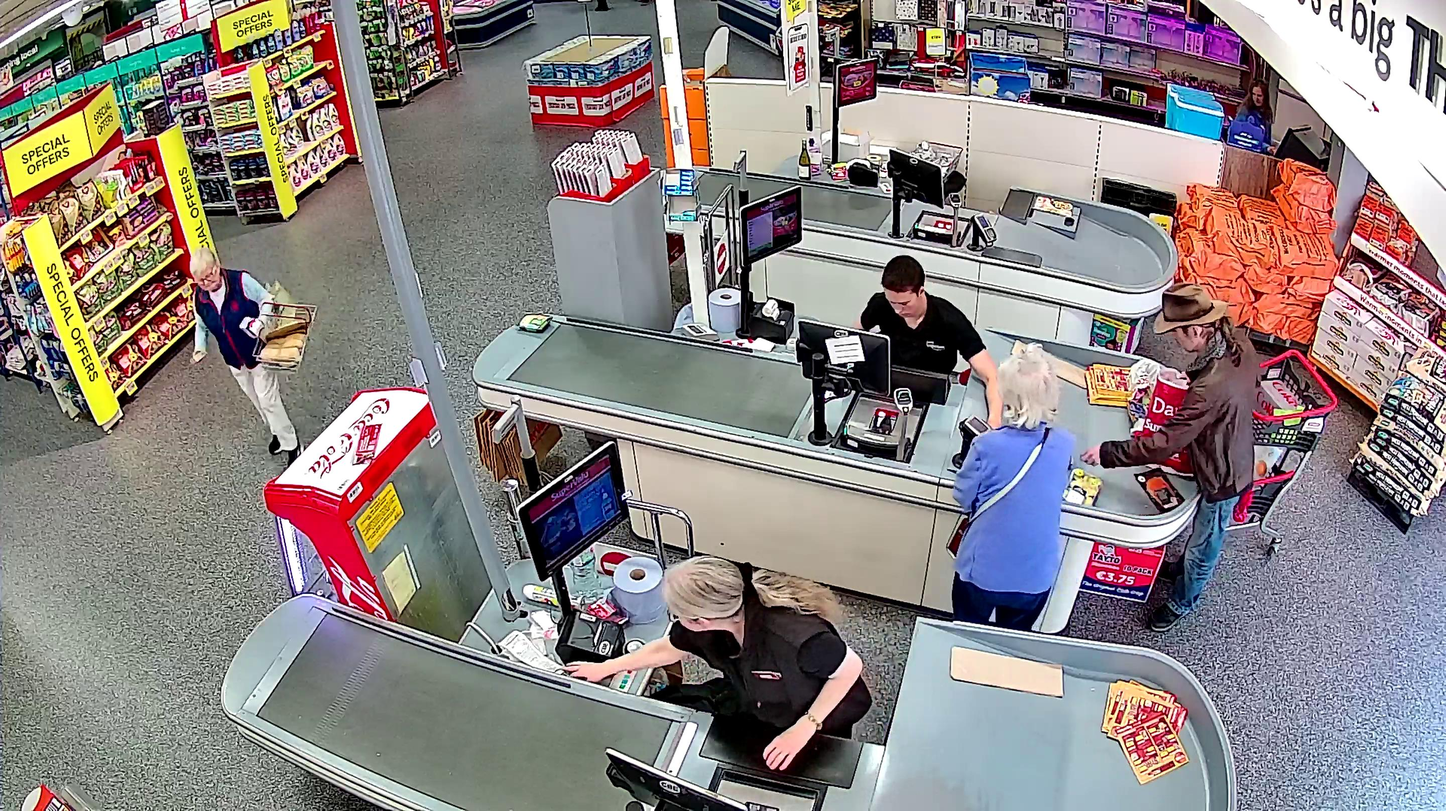filled-basket: (253, 297, 318, 371)
occupied-checkout-counter: (515, 438, 921, 811), (737, 182, 1003, 481)
person: (190, 248, 304, 466)
person-with-filled-basket-trolly: (190, 247, 319, 466)
vacant-checkout-counter: (829, 51, 1033, 263)
